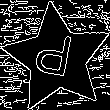P_S: (34, 30, 80, 87)
